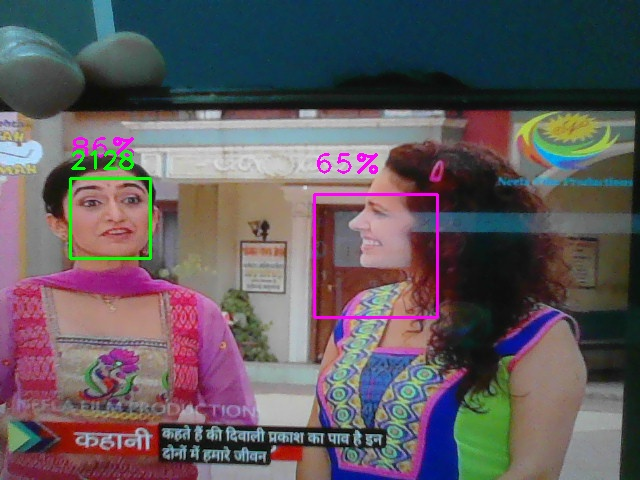fake: (70, 178, 151, 259)
